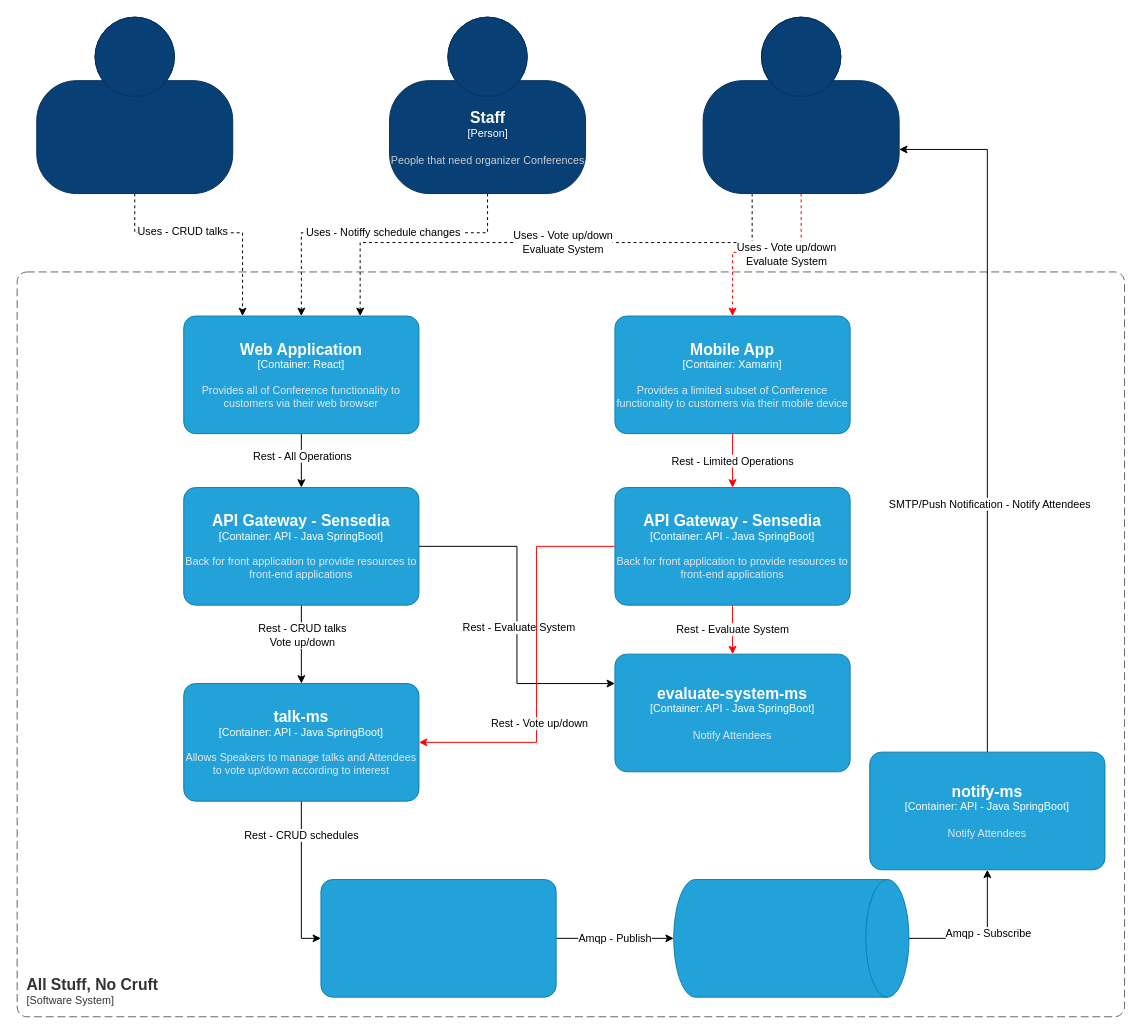
Some shapes in this 1142 by 1034 pixel diagram are drawn without their labels. Each missing label, with the centre of its shape:
Attendees [Person] People that need view Conferences: point 800,105
schedule-bus [Container : RabbitMQ] Schedule messages: point 791,938
speak-schedule-ms [Container: API - Java SpringBoot] Schedule Talks: point 438,938
Speaker [Person] People that need speak in Conferences: point 134,105
